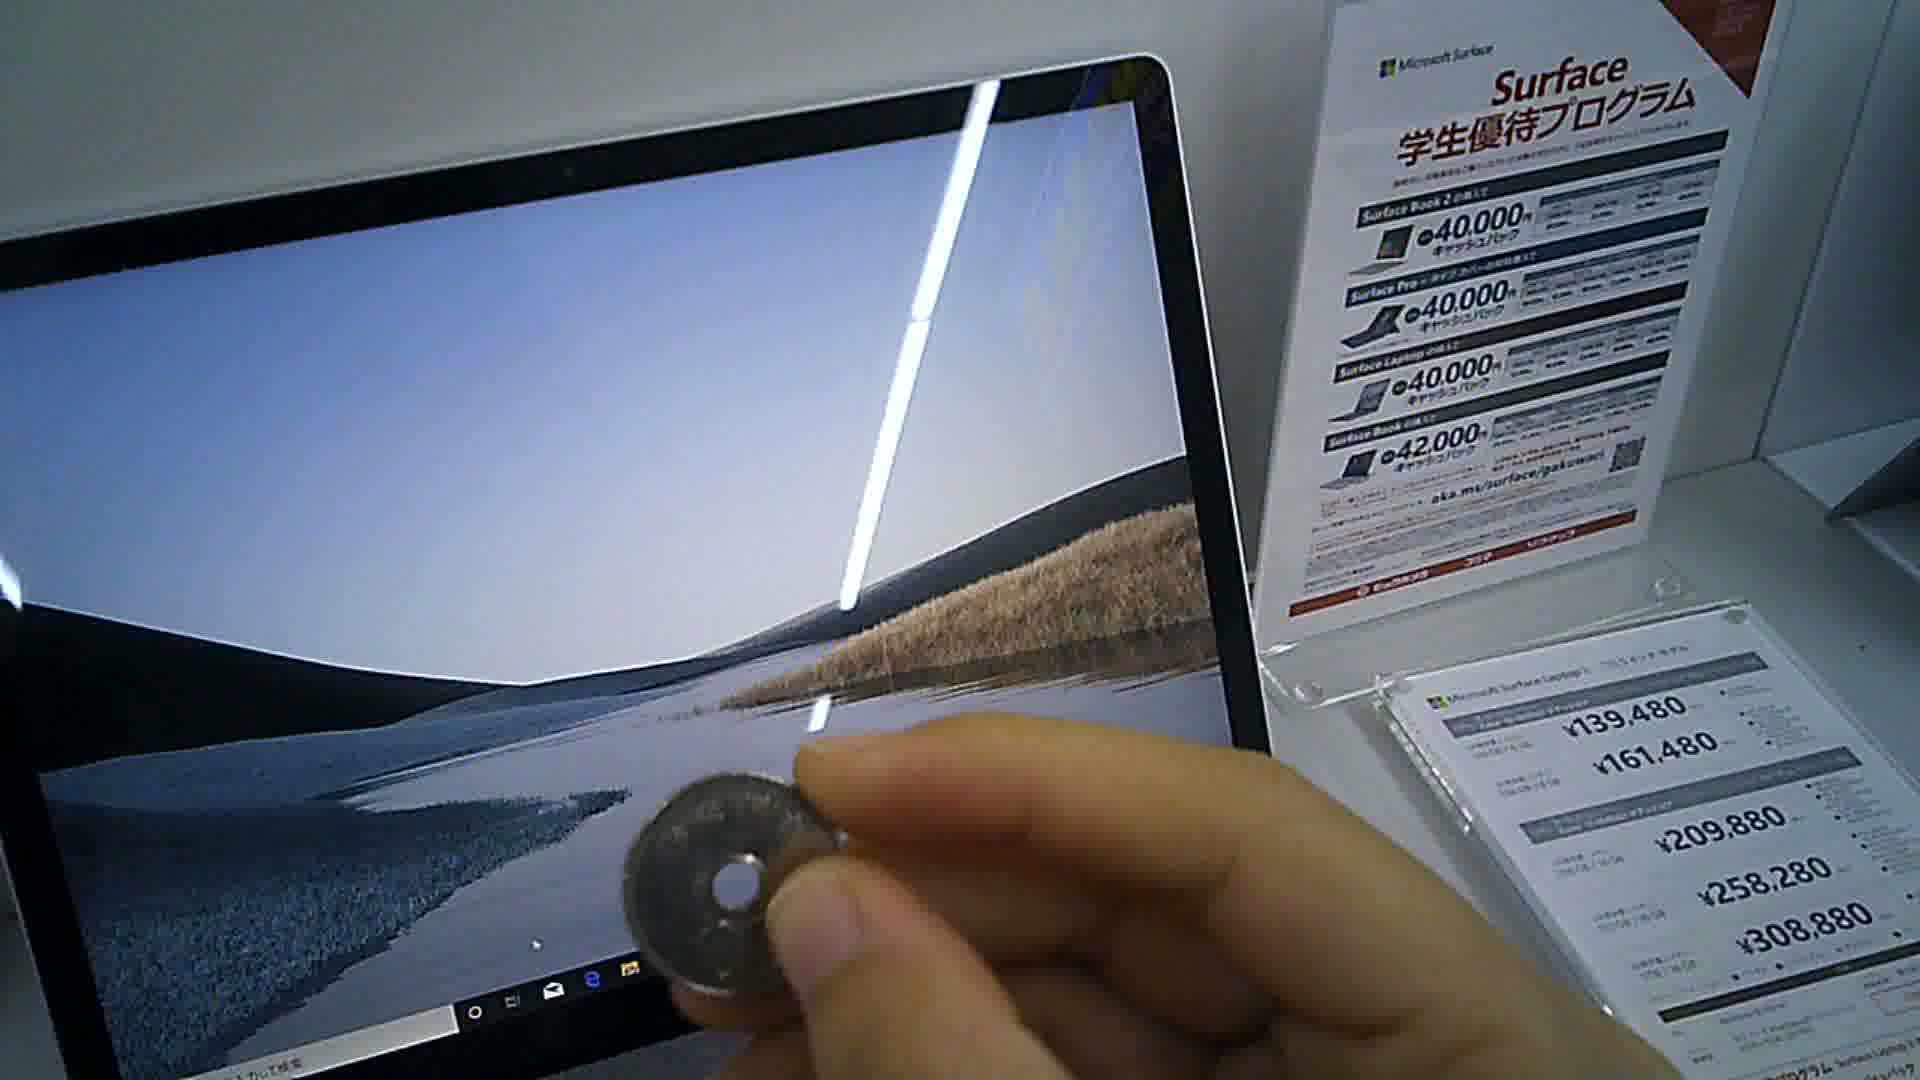50 Yen: (618, 773, 847, 1000)
